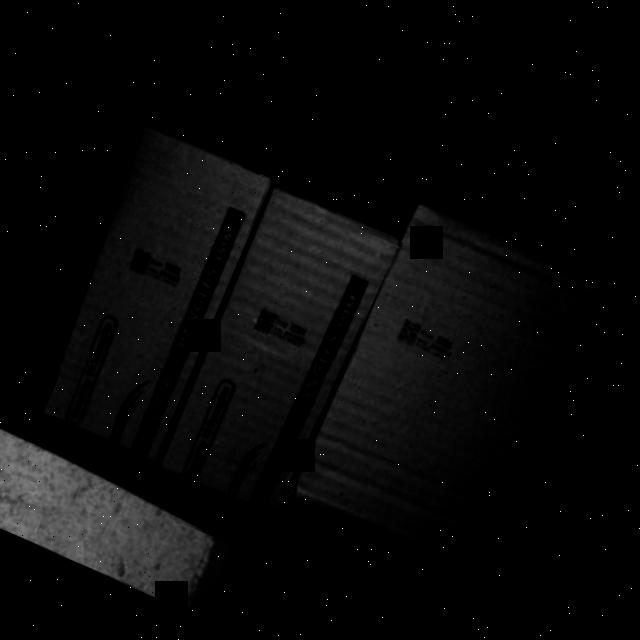box: (290, 198, 614, 576), (17, 118, 284, 471), (152, 184, 400, 522)
